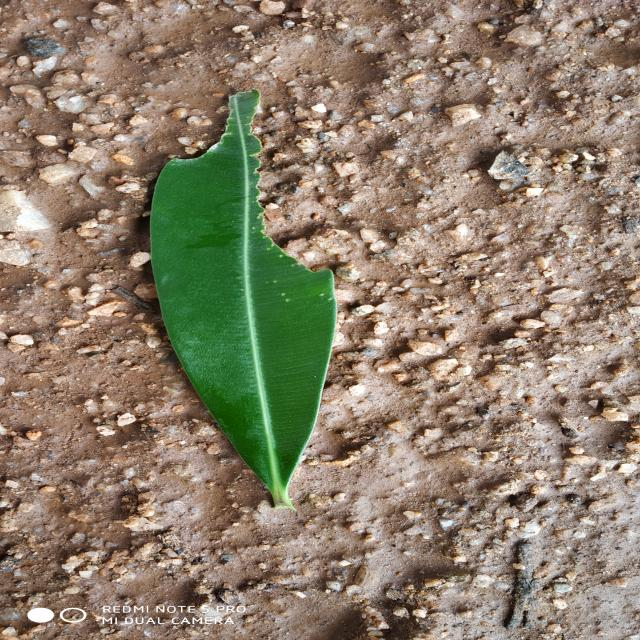ganigale: (151, 90, 336, 509)
